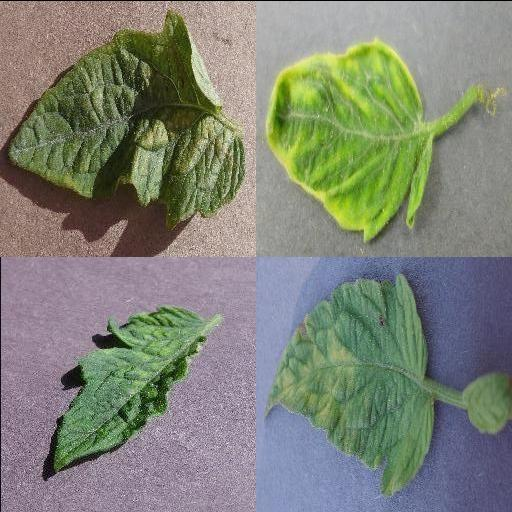Leaf Mold: (266, 270, 436, 498)
Mosaic Virus: (51, 302, 207, 474)
Spider Mites: (9, 7, 245, 225)
Yellow Leaf Curl Virus: (263, 34, 435, 240)
